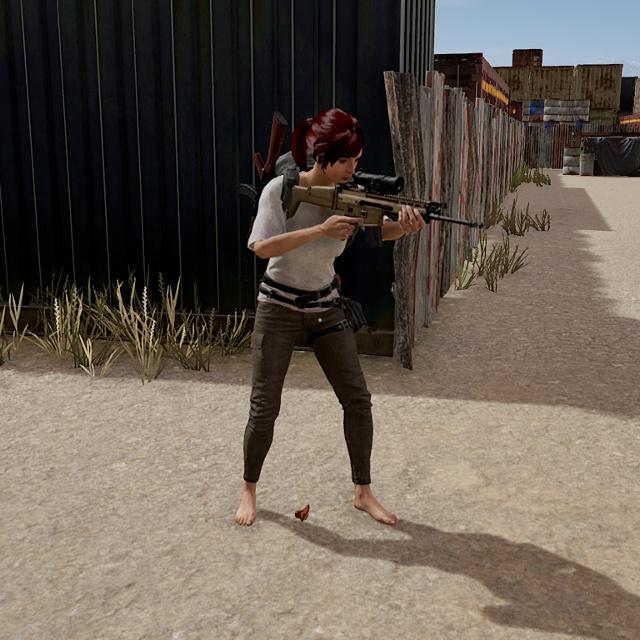head: (298, 105, 369, 188)
people: (228, 94, 402, 536)
